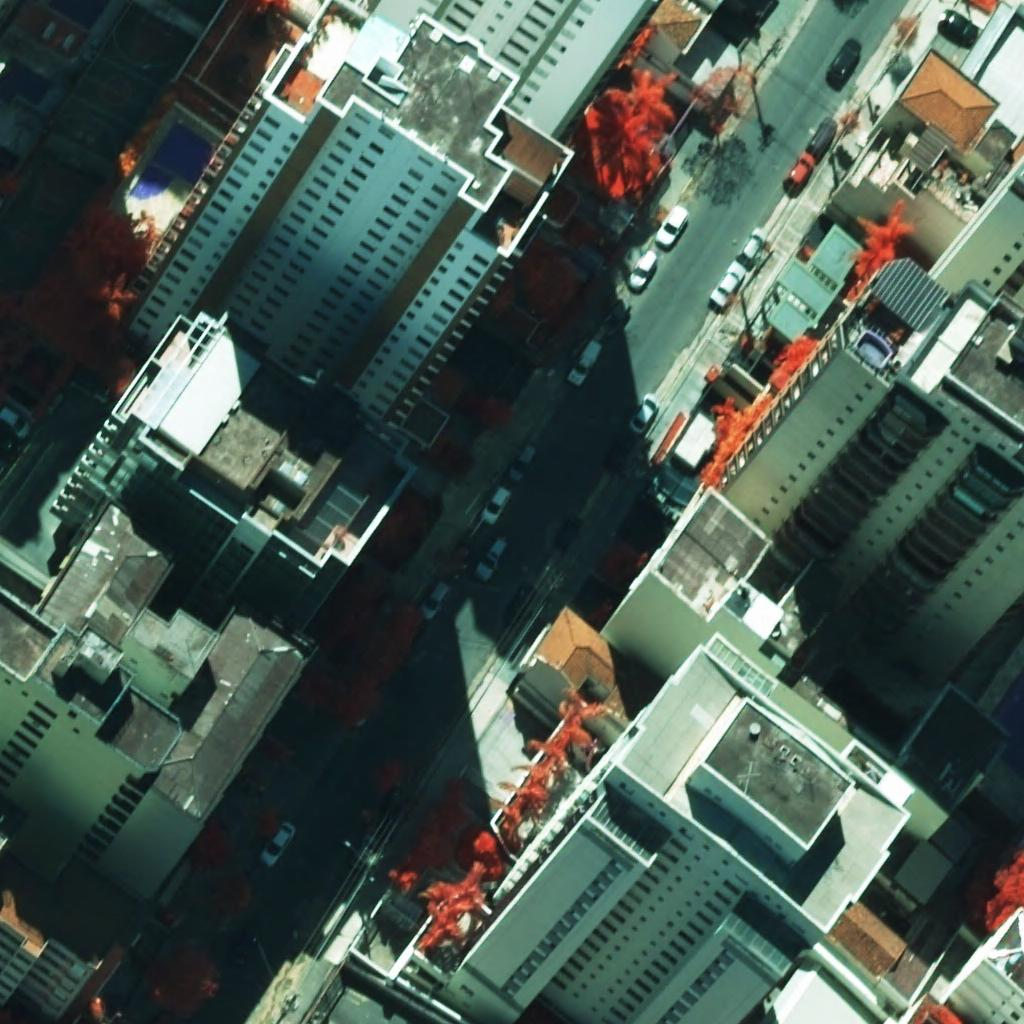pool: (130, 121, 212, 200), (990, 670, 1024, 778), (50, 0, 110, 30)
